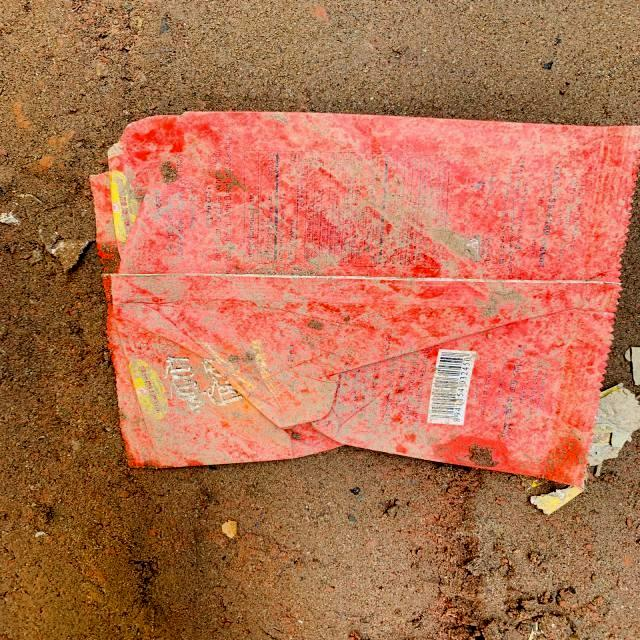packet: (130, 110, 586, 456)
